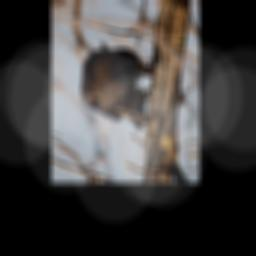Crow: (78, 38, 158, 132)
